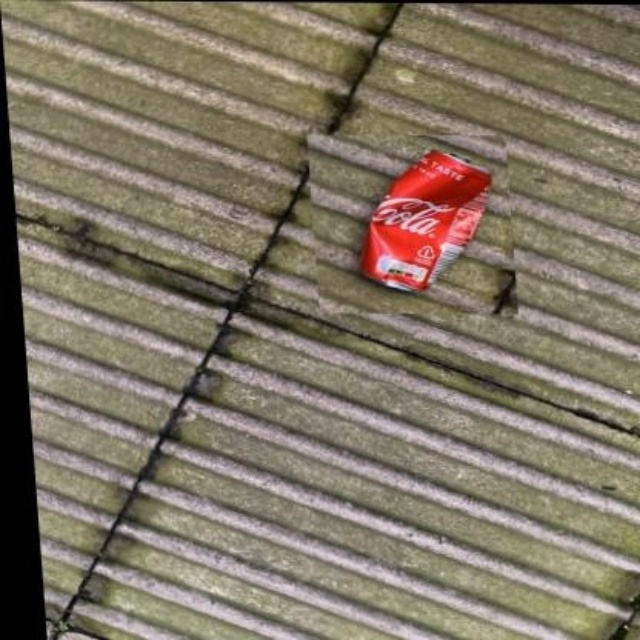trash: (362, 149, 491, 291)
